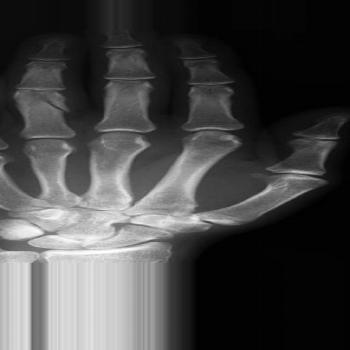Fracture: (29, 87, 80, 121)
